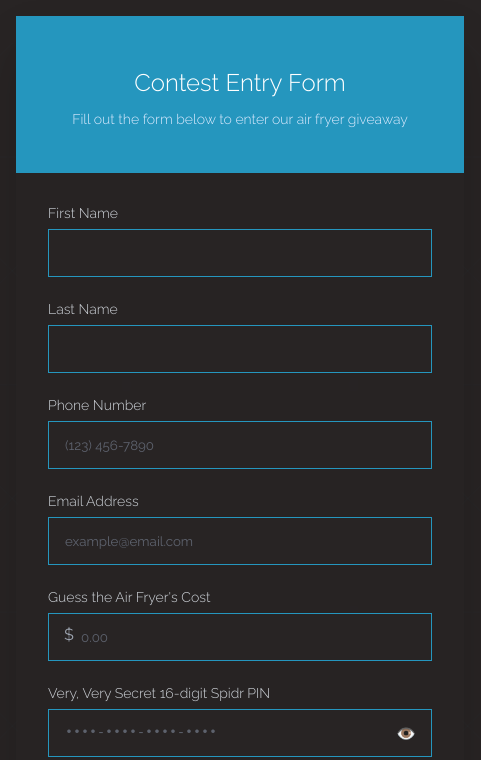
it: SpidrForm Component › Phone Number Validation › formats phone number correctly
Type "1234567890" into the field labelled "Phone Number" at (240,445), box [48,421,432,469]
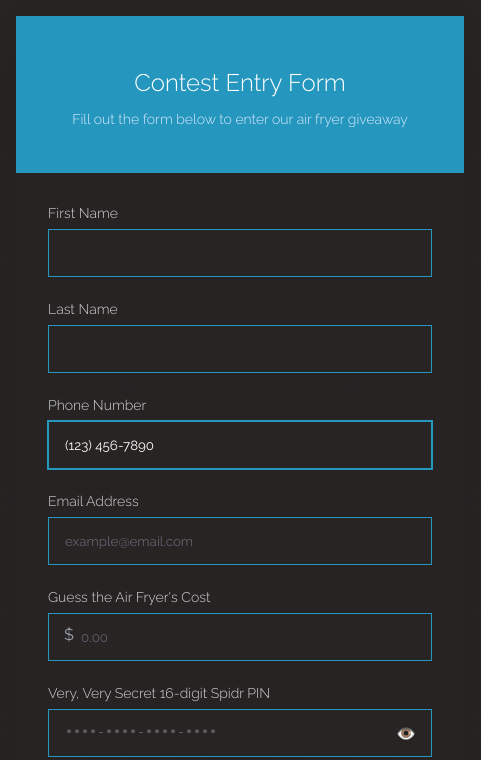
Expected: the field labelled "Phone Number" holds "(123) 456-7890", [48,421,432,469]
